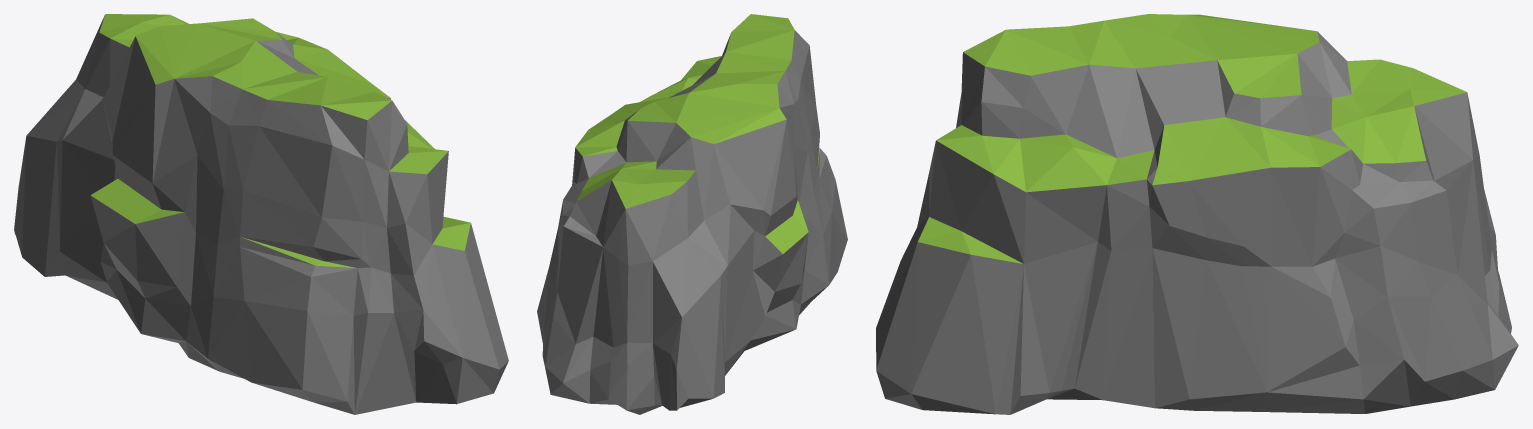
File: model_polytope_rock_flat03.fbx
3 renders of one model, left to right at view 1: azimuth 30°, elevation 25°; view 2: azimuth 150°, elevation 25°; view 3: azimuth 270°, elevation 25°, orthographic. The views are drawn at different scales.
Parts seen in each view (by area): view 1: model_polytope_rock_flat03; view 2: model_polytope_rock_flat03; view 3: model_polytope_rock_flat03.
Boxes of the visible parts, left/top/right/bottom form: model_polytope_rock_flat03: left=14, top=14, right=508, bottom=414; model_polytope_rock_flat03: left=537, top=14, right=847, bottom=414; model_polytope_rock_flat03: left=876, top=14, right=1518, bottom=414.
Size of the model in its own units: 716 by 790 by 1389.
Materials: 1 (1 with a texture image).
